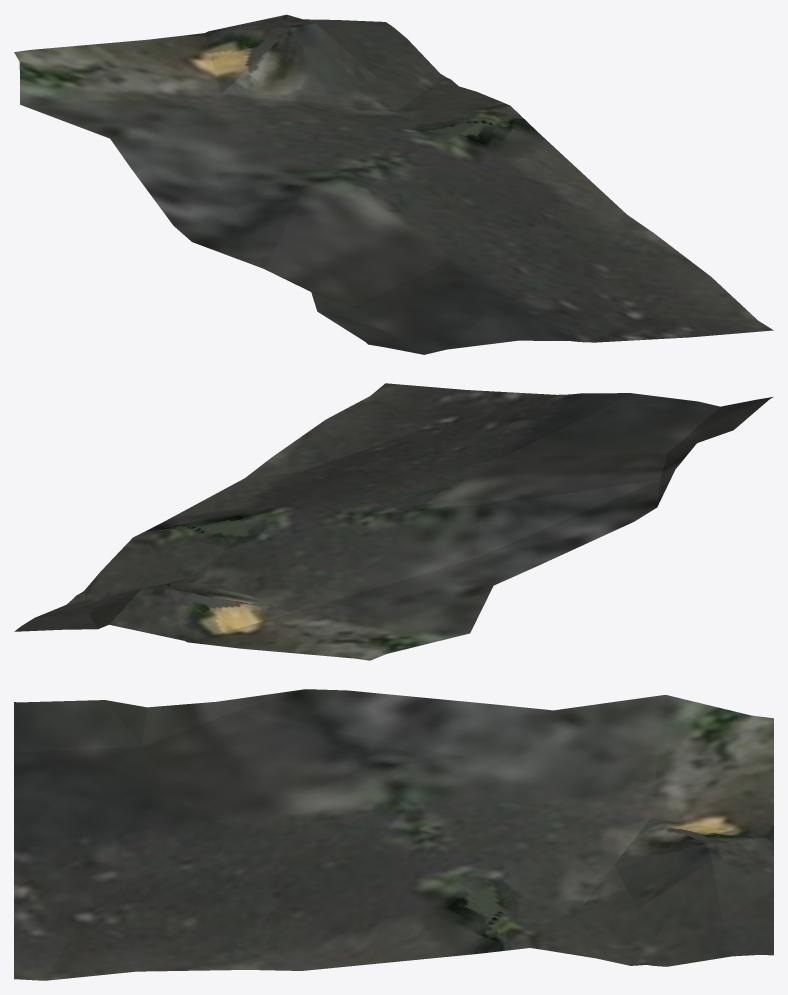
3 views of the same model, one above another, from view 1: azimuth 30°, elevation 25°; view 2: azimuth 150°, elevation 25°; view 3: azimuth 270°, elevation 25° (orthographic). The views are drawn at different scales.
Size of the model in its own units: 0.5393 by 0.1031 by 0.8374.
Materials: 2 (2 with a texture image).
